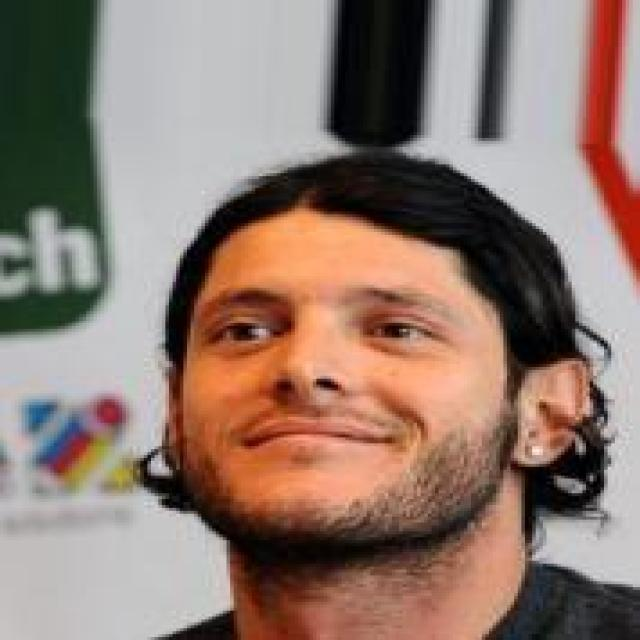bareface: (192, 239, 518, 536)
